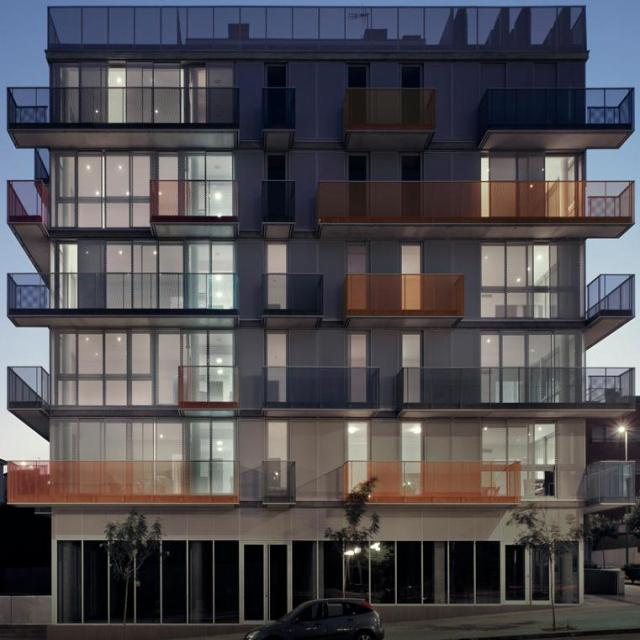Railing: (313, 181, 633, 235), (4, 460, 238, 502), (478, 86, 634, 147), (5, 86, 239, 126), (398, 368, 634, 406), (5, 273, 238, 310), (342, 462, 522, 503), (262, 366, 382, 409), (345, 276, 467, 316), (342, 89, 437, 139), (150, 179, 238, 215), (257, 273, 327, 315), (178, 366, 240, 404), (584, 274, 634, 321), (261, 179, 296, 230), (588, 461, 636, 498), (262, 88, 296, 139), (262, 461, 296, 502)
door: (240, 540, 295, 629), (502, 543, 554, 606)
plant: (325, 476, 391, 560), (100, 508, 163, 557)
wall: (5, 5, 634, 628)
windows: (55, 541, 239, 628), (293, 542, 502, 605), (58, 332, 234, 404), (52, 419, 236, 462), (53, 154, 151, 227), (482, 240, 558, 317), (56, 241, 232, 274), (482, 426, 556, 494), (478, 331, 572, 368), (64, 67, 234, 87), (481, 154, 583, 180), (150, 151, 236, 179), (554, 542, 584, 605), (404, 334, 425, 404), (345, 421, 373, 461), (268, 418, 290, 460), (401, 423, 424, 463), (348, 332, 371, 367), (266, 331, 286, 367), (400, 152, 423, 181), (348, 152, 371, 180), (346, 247, 370, 273), (403, 246, 425, 274), (400, 63, 423, 88), (348, 62, 370, 88), (266, 64, 289, 86), (267, 247, 285, 275), (266, 155, 288, 177)
